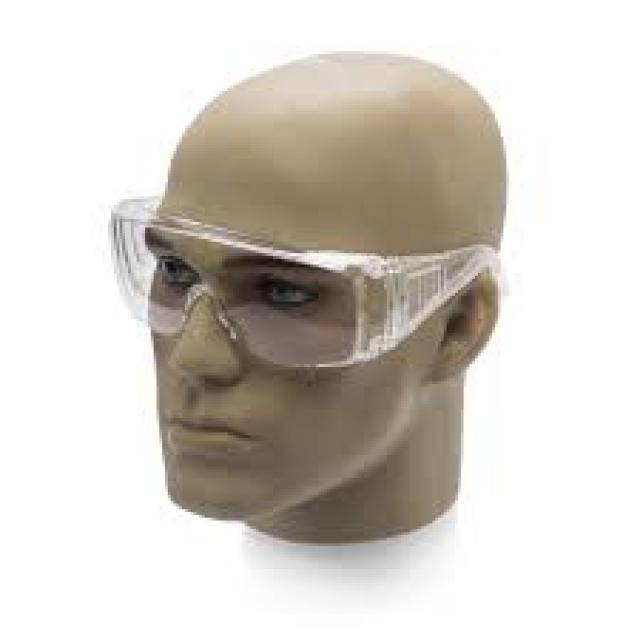oculos-epi: (109, 197, 496, 368)
